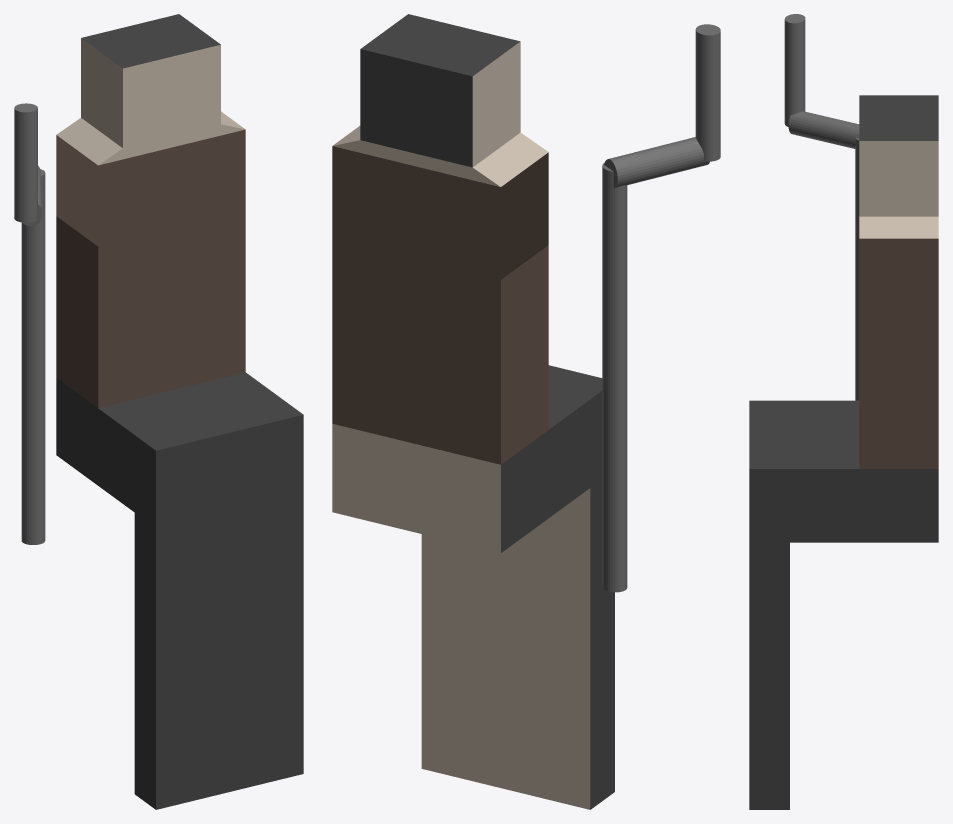
The model's file is guard-and-brake-handle.dae.
The picture shows the model from 3 angles, left to right: view 1: azimuth 30°, elevation 25°; view 2: azimuth 150°, elevation 25°; view 3: azimuth 270°, elevation 25°; orthographic projection. The views are drawn at different scales.
Parts seen in each view (by area): view 1: Plane_022_003, Cylinder, Cylinder_006; view 2: Plane_022_003, Cylinder, Cylinder_006, Cylinder_005; view 3: Plane_022_003, Cylinder_006, Cylinder_005, Cylinder.
Part boxes in pixels (bbox=[...]): Plane_022_003: bbox=[56, 14, 303, 809]; Cylinder: bbox=[21, 169, 45, 544]; Cylinder_006: bbox=[14, 103, 37, 222]; Plane_022_003: bbox=[332, 14, 614, 809]; Cylinder: bbox=[602, 163, 627, 592]; Cylinder_006: bbox=[695, 24, 720, 161]; Cylinder_005: bbox=[604, 137, 709, 188]; Plane_022_003: bbox=[749, 95, 938, 809]; Cylinder_006: bbox=[784, 14, 805, 126]; Cylinder_005: bbox=[788, 111, 859, 148]; Cylinder: bbox=[855, 138, 859, 400].
Bounding box in the file's own units: 0.4483 × 0.2942 × 1.16.
